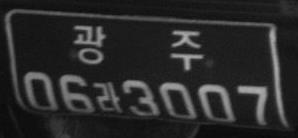0: (20, 71, 59, 112), (199, 82, 236, 123), (161, 80, 198, 120)
3: (121, 78, 161, 118)
6: (60, 73, 94, 113)
7: (237, 82, 269, 127)
광주_D: (71, 21, 205, 72)
라: (95, 80, 122, 116)
